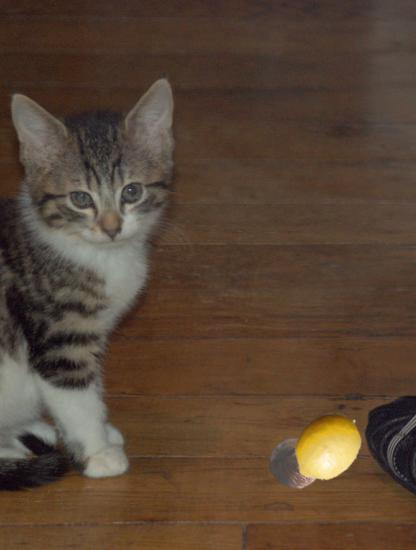Lemon: (290, 409, 366, 485)
Walnut: (269, 437, 322, 490)
